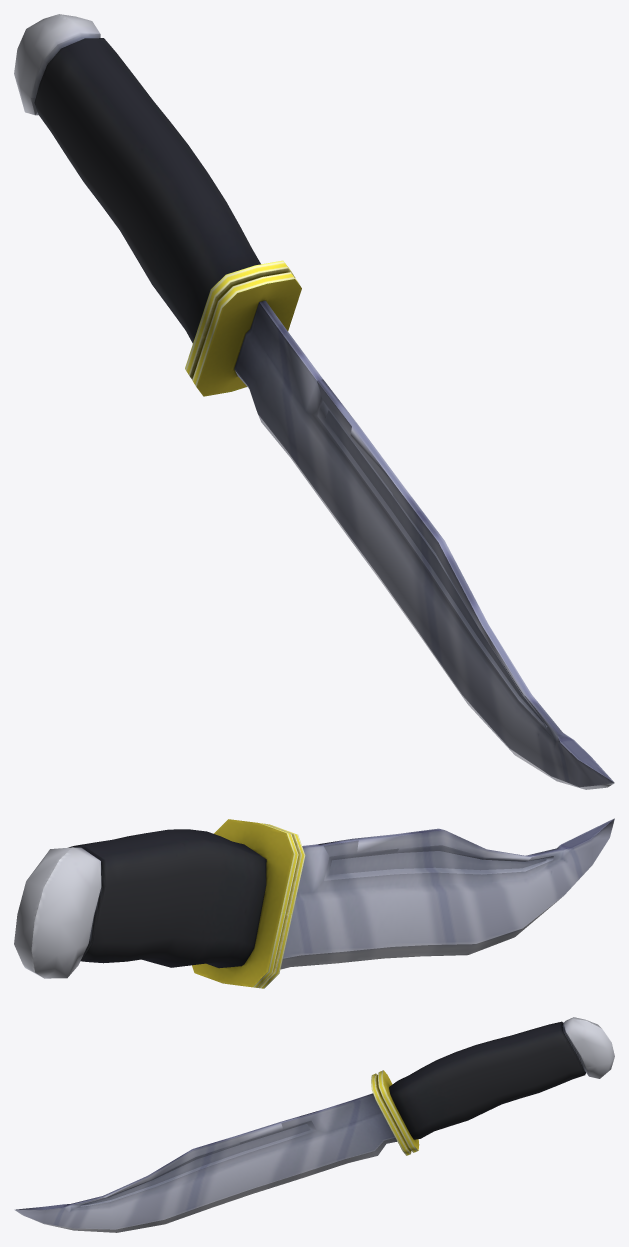
File: MadMurdererKnife.obj
The picture shows the model from 3 angles, top to bottom: view 1: azimuth 30°, elevation 25°; view 2: azimuth 150°, elevation 25°; view 3: azimuth 270°, elevation 25°; orthographic projection. The views are drawn at different scales.
Visible parts, largest first — view 1: Handle1; view 2: Handle1; view 3: Handle1.
Part boxes in pixels (<box>): Handle1: <box>14,14,614,789</box>; Handle1: <box>14,818,614,988</box>; Handle1: <box>14,1017,614,1232</box>.
Size of the model in its own units: 0.2024 by 0.9964 by 2.55.
Materials: 1 (1 with a texture image).
